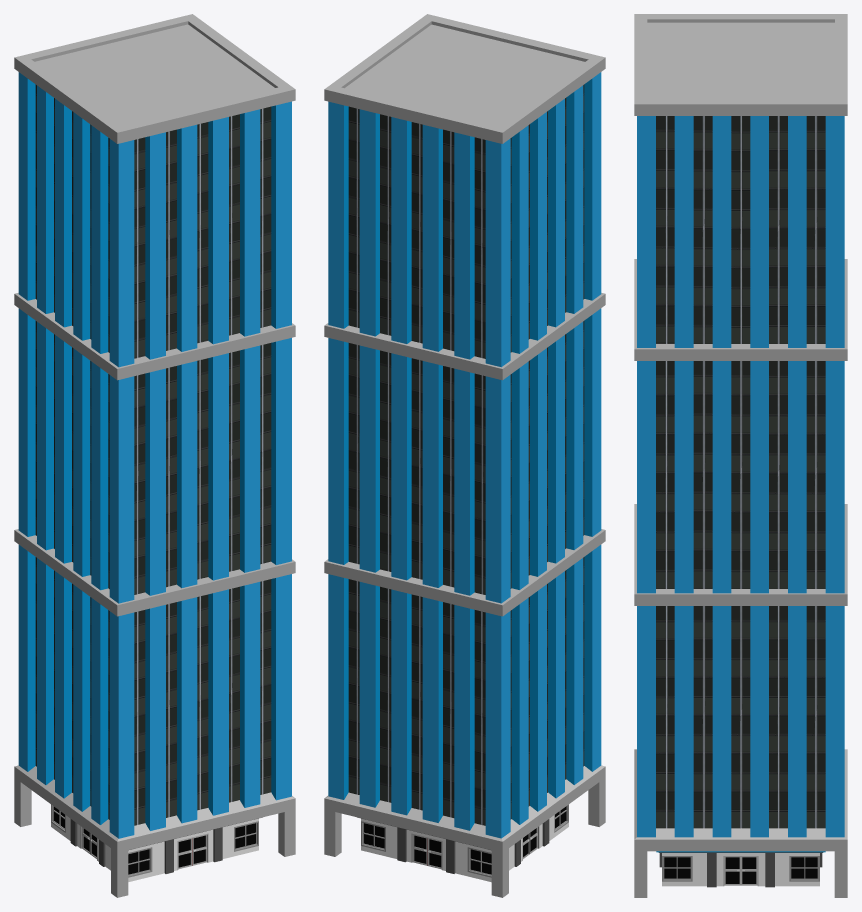
3 views of the same model, side by side, from view 1: azimuth 30°, elevation 25°; view 2: azimuth 150°, elevation 25°; view 3: azimuth 270°, elevation 25° (orthographic). The views are drawn at different scales.
Visible parts, largest first — view 1: BC-14; view 2: BC-14; view 3: BC-14.
Boxes of the visible parts, x1,y1,x2,y2 form: BC-14: [14, 14, 295, 897]; BC-14: [324, 14, 605, 897]; BC-14: [634, 14, 847, 897].
Size of what is drawn, in the model's own units: 16.58 by 67.98 by 16.58.
